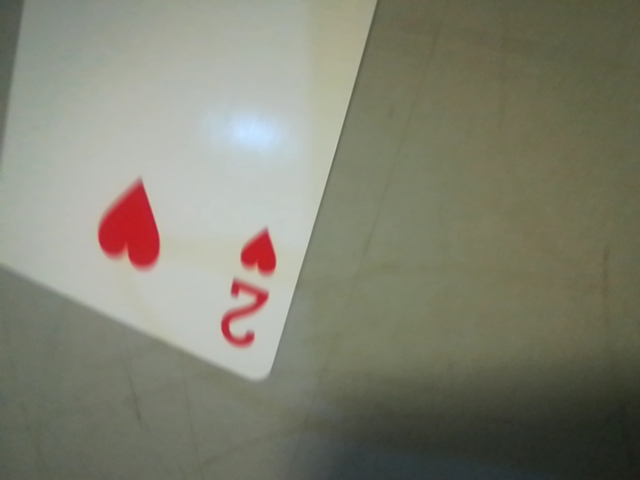hx 2: (206, 215, 289, 365)
